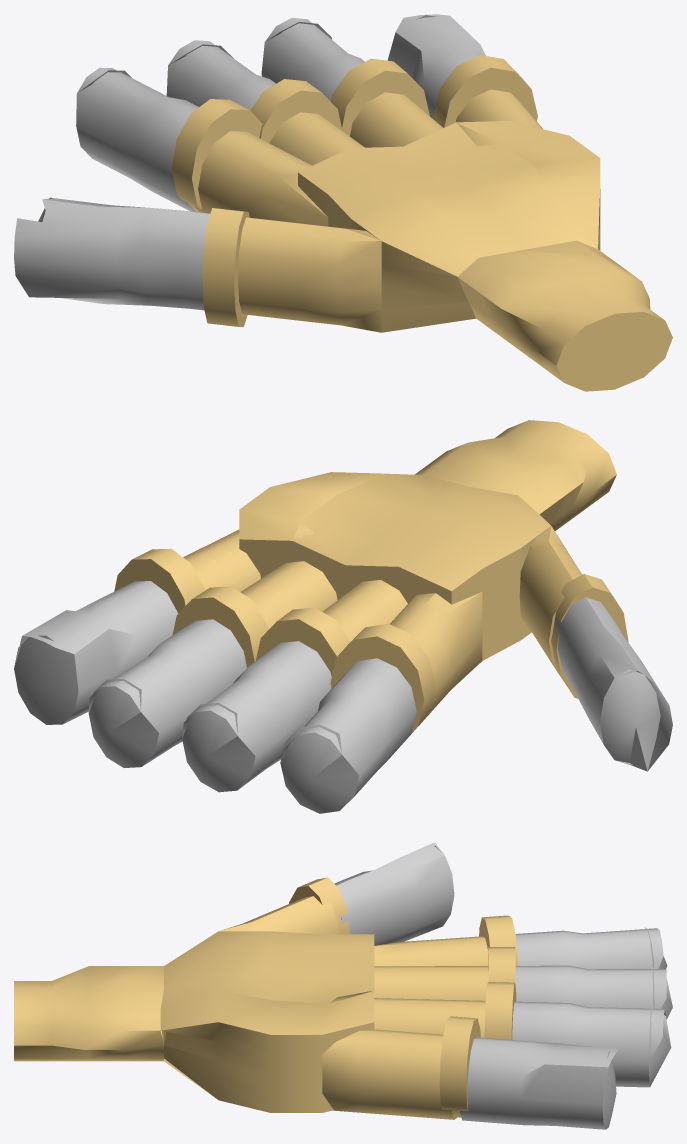
Rendered from Рука .fbx.
3 views of the same model, one above another, from view 1: azimuth 30°, elevation 25°; view 2: azimuth 150°, elevation 25°; view 3: azimuth 270°, elevation 25° (orthographic). The views are drawn at different scales.
Visible parts, largest first — view 1: Объект_Куб, Объект_Цилиндр, Объект_Цилиндр_2, Объект_Цилиндр_1, Объект_Цилиндр_5, Объект_Цилиндр_4, Объект_Цилиндр_8, Объект_Цилиндр_14, Объект_Цилиндр_11, Объект_Цилиндр_6, Объект_Цилиндр_3, Объект_Цилиндр_9 (+5 smaller); view 2: Объект_Куб, Объект_Цилиндр_8, Объект_Цилиндр_11, Объект_Цилиндр_14, Объект_Цилиндр_5, Объект_Цилиндр, Объект_Цилиндр_2, Объект_Цилиндр_4, Объект_Цилиндр_1, Объект_Цилиндр_6, Объект_Цилиндр_13, Объект_Цилиндр_15 (+5 smaller); view 3: Объект_Куб, Объект_Цилиндр, Объект_Цилиндр_8, Объект_Цилиндр_7, Объект_Цилиндр_2, Объект_Цилиндр_14, Объект_Цилиндр_11, Объект_Цилиндр_5, Объект_Цилиндр_12, Объект_Цилиндр_13, Объект_Цилиндр_4, Объект_Цилиндр_9 (+5 smaller).
Boxes of the visible parts, x1,y1,x2,y2 form: Объект_Куб: [298, 121, 600, 332]; Объект_Цилиндр: [458, 240, 672, 391]; Объект_Цилиндр_2: [14, 197, 210, 310]; Объект_Цилиндр_1: [238, 217, 381, 332]; Объект_Цилиндр_5: [76, 67, 198, 211]; Объект_Цилиндр_4: [194, 131, 328, 226]; Объект_Цилиндр_8: [387, 14, 485, 118]; Объект_Цилиндр_14: [261, 17, 364, 101]; Объект_Цилиндр_11: [166, 40, 275, 110]; Объект_Цилиндр_6: [171, 99, 262, 212]; Объект_Цилиндр_3: [202, 208, 249, 326]; Объект_Цилиндр_9: [433, 55, 537, 127]; Объект_Куб: [239, 472, 550, 660]; Объект_Цилиндр_8: [14, 581, 178, 724]; Объект_Цилиндр_11: [182, 641, 331, 792]; Объект_Цилиндр_14: [88, 619, 246, 767]; Объект_Цилиндр_5: [280, 658, 416, 813]; Объект_Цилиндр: [415, 420, 616, 530]; Объект_Цилиндр_2: [556, 597, 672, 771]; Объект_Цилиндр_4: [390, 592, 482, 713]; Объект_Цилиндр_1: [519, 526, 581, 673]; Объект_Цилиндр_6: [330, 623, 435, 732]; Объект_Цилиндр_13: [240, 561, 337, 629]; Объект_Цилиндр_15: [172, 586, 268, 667]; Объект_Куб: [160, 931, 374, 1112]; Объект_Цилиндр: [14, 966, 163, 1061]; Объект_Цилиндр_8: [460, 1037, 619, 1129]; Объект_Цилиндр_7: [322, 1029, 457, 1119]; Объект_Цилиндр_2: [334, 842, 454, 945]; Объект_Цилиндр_14: [512, 1001, 671, 1087]; Объект_Цилиндр_11: [515, 965, 672, 1019]; Объект_Цилиндр_5: [515, 927, 667, 969]; Объект_Цилиндр_12: [374, 966, 488, 1000]; Объект_Цилиндр_13: [374, 998, 485, 1037]; Объект_Цилиндр_4: [374, 936, 488, 966]; Объект_Цилиндр_9: [439, 1016, 480, 1117].
Size of the model in its own units: 524 by 109 by 635.
